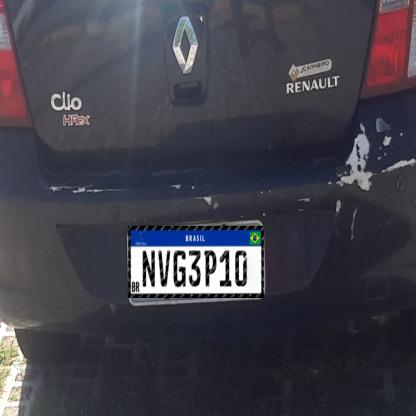PlacaM: (128, 226, 264, 298)
